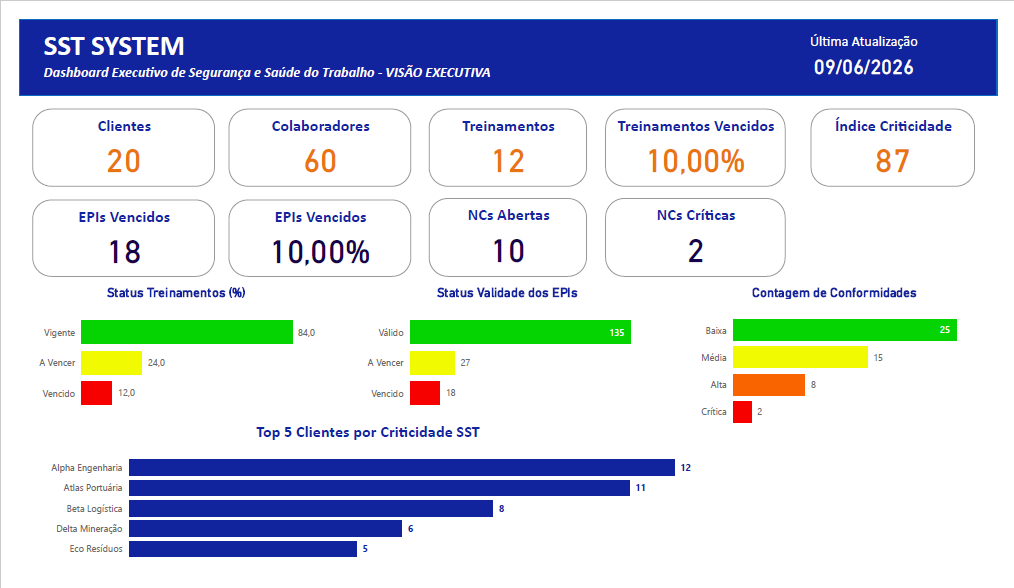

What the dashboard file says about the page in this screenshot:
{"tool":"powerbi","page":{"name":"Visão Executiva SST","canvas":[1280,720],"ordinal":0},"visuals":[{"type":"shape","box":[0,0,1280,100],"z":0},{"type":"card","title":"Clientes","fields":{"Values":["Medidas.Total Clientes"]},"box":[17.1,117.1,238.6,101.4],"z":1000},{"type":"card","title":"Colaboradores","fields":{"Values":["Medidas.Total Colaboradores"]},"box":[274.3,117.1,238.6,101.4],"z":2000},{"type":"card","title":"Treinamentos","fields":{"Values":["Medidas.Treinamentos Vencidos"]},"box":[535.7,117.1,207.1,101.4],"z":3000},{"type":"card","title":"EPIs Vencidos","fields":{"Values":["Medidas.EPIs Vencidos"]},"box":[17.1,235.7,238.6,101.4],"z":4000},{"type":"card","title":"NCs Abertas","fields":{"Values":["Medidas.NCs Abertas"]},"box":[535.7,234.3,207.1,102.9],"z":5000},{"type":"card","title":"NCs Críticas","fields":{"Values":["Medidas.NCs Críticas"]},"box":[767.1,234.3,235.7,102.9],"z":6000},{"type":"barChart","title":"Status Treinamentos (%)","fields":{"Category":["public vw_treinamentos.status_treinamento"],"Y":["CountNonNull(public vw_treinamentos.id_treinamento)"]},"box":[17.1,346.7,377.1,180],"z":7000},{"type":"barChart","title":"Status Validade dos EPIs","fields":{"Category":["public vw_epis.status_epi"],"Y":["CountNonNull(public vw_epis.id_epi)"]},"box":[447.1,346.7,384.3,180],"z":8000},{"type":"barChart","title":"Contagem de Conformidades","fields":{"Category":["public vw_nao_conformidades.severidade"],"Y":["CountNonNull(public vw_nao_conformidades.id_nao_conformidade)"]},"box":[884.3,346.7,367.1,201.4],"z":9000},{"type":"textbox","box":[27.1,5.7,640,87.1],"z":10000},{"type":"card","title":"Última Atualização","fields":{"Values":["Medidas.Última Atualização"]},"box":[944.3,17.1,322.9,65.7],"z":11000},{"type":"card","title":"Treinamentos Vencidos","fields":{"Values":["Medidas.% Treinamentos Vencidos"]},"box":[767.1,117.1,235.7,101.4],"z":12000},{"type":"card","title":"EPIs Vencidos","fields":{"Values":["Medidas.% EPIs Vencidos"]},"box":[274.3,235.7,238.6,101.4],"z":13000},{"type":"card","title":"Índice Criticidade","fields":{"Values":["Medidas.Indice Criticidade"]},"box":[1035.7,117.1,215.7,101.4],"z":14000},{"type":"barChart","title":"Top 5 Clientes por Criticidade SST","fields":{"Category":["Ranking Clientes NC.nome_fantasia"],"Y":["Sum(Ranking Clientes NC.Total NC)"]},"box":[28.6,527.1,855.7,192.9],"z":15000}]}

Visuals, with their boxes in screenshot pixels (x1, y1, x2, y2), scaled from the page's 1280x720 canvas onto the 1014x588 screenshot:
shape: 0/0/1013/82
"Clientes" card: 14/96/203/178
"Colaboradores" card: 217/96/406/178
"Treinamentos" card: 424/96/588/178
"EPIs Vencidos" card: 14/192/203/275
"NCs Abertas" card: 424/191/588/275
"NCs Críticas" card: 608/191/794/275
"Status Treinamentos (%)" barChart: 14/283/312/430
"Status Validade dos EPIs" barChart: 354/283/659/430
"Contagem de Conformidades" barChart: 701/283/991/448
textbox: 21/5/528/76
"Última Atualização" card: 748/14/1004/68
"Treinamentos Vencidos" card: 608/96/794/178
"EPIs Vencidos" card: 217/192/406/275
"Índice Criticidade" card: 820/96/991/178
"Top 5 Clientes por Criticidade SST" barChart: 23/430/701/587
